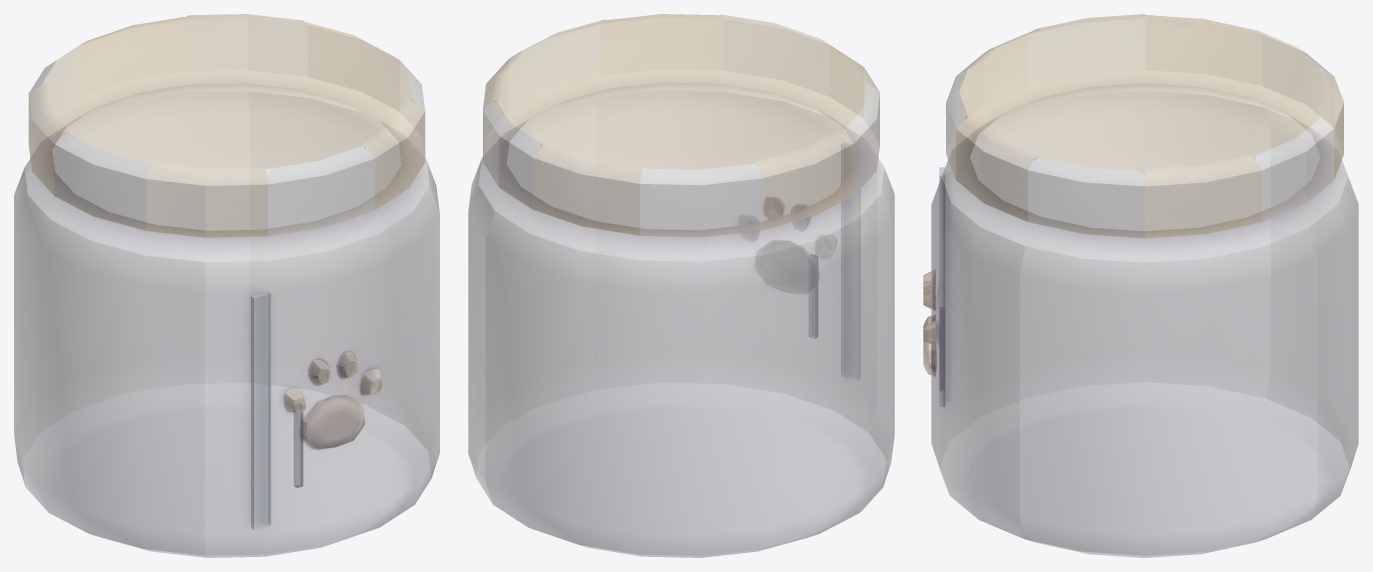
File: kavanoz1.glb
3 renders of one model, left to right at view 1: azimuth 30°, elevation 25°; view 2: azimuth 150°, elevation 25°; view 3: azimuth 270°, elevation 25°, orthographic.
Visible parts, largest first — view 1: kavanoz1; view 2: kavanoz1; view 3: kavanoz1.
Part boxes in pixels (<box>): kavanoz1: <box>14,14,439,557</box>; kavanoz1: <box>468,14,894,557</box>; kavanoz1: <box>923,14,1358,557</box>.
Bounding box in the file's own units: 1.53 × 1.55 × 1.56.
1 material, 1 textured.
